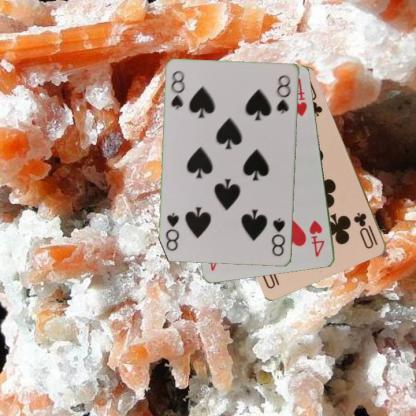10c: (351, 210, 380, 250)
4h: (307, 218, 326, 258)
8s: (269, 216, 287, 258), (169, 68, 186, 111)
